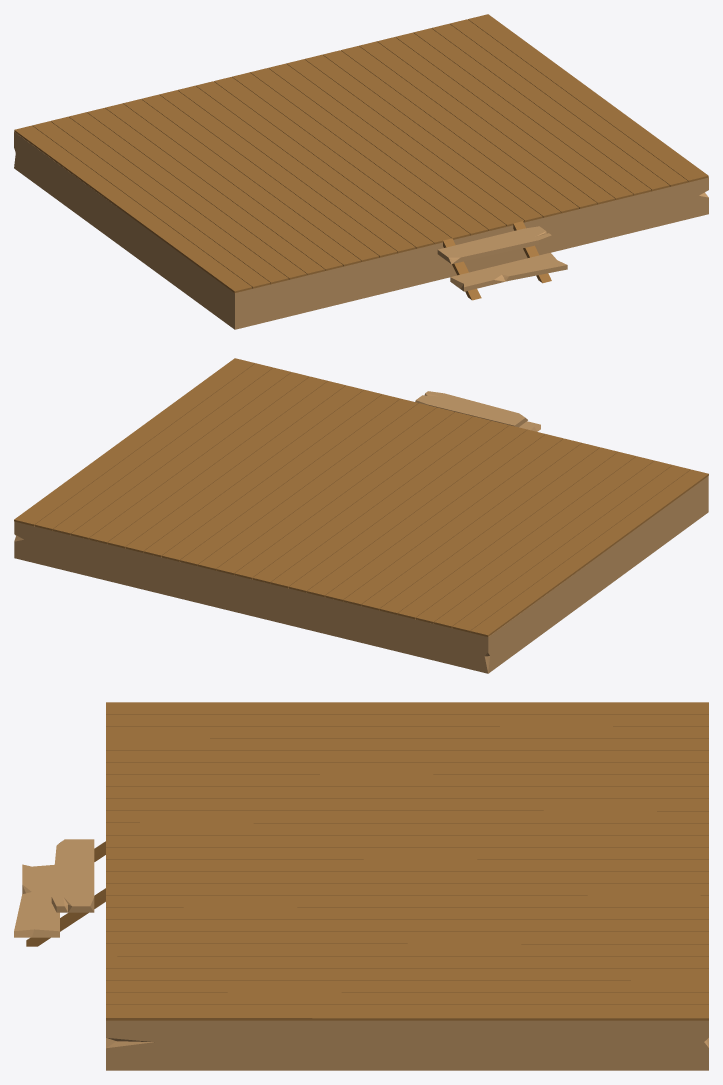
The model's file is Platform_2.fbx.
The picture shows the model from 3 angles, top to bottom: view 1: azimuth 30°, elevation 25°; view 2: azimuth 150°, elevation 25°; view 3: azimuth 270°, elevation 25°; orthographic projection. The views are drawn at different scales.
Parts seen in each view (by area): view 1: Platform_2; view 2: Platform_2; view 3: Platform_2.
Boxes of the visible parts, x1=… form: Platform_2: x1=14, y1=14, x2=708, y2=329; Platform_2: x1=14, y1=358, x2=708, y2=673; Platform_2: x1=14, y1=702, x2=708, y2=1070.
Size of the model in its own units: 938 by 872 by 72.75.
